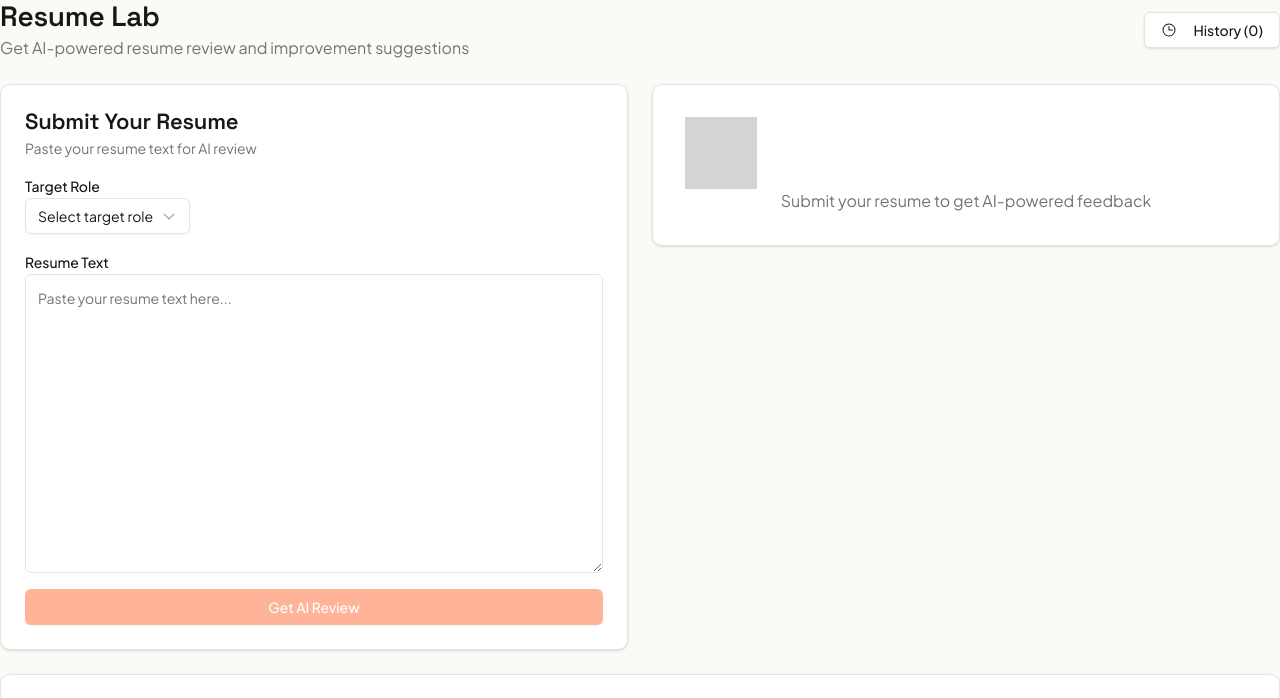
Test: ResumeLab › shows an error when the resume creation request fails
The image size is (1280, 698).
In the text box with placeholder "Paste your resume text here...": (314, 424) [25,274,603,574], type "Some resume text"
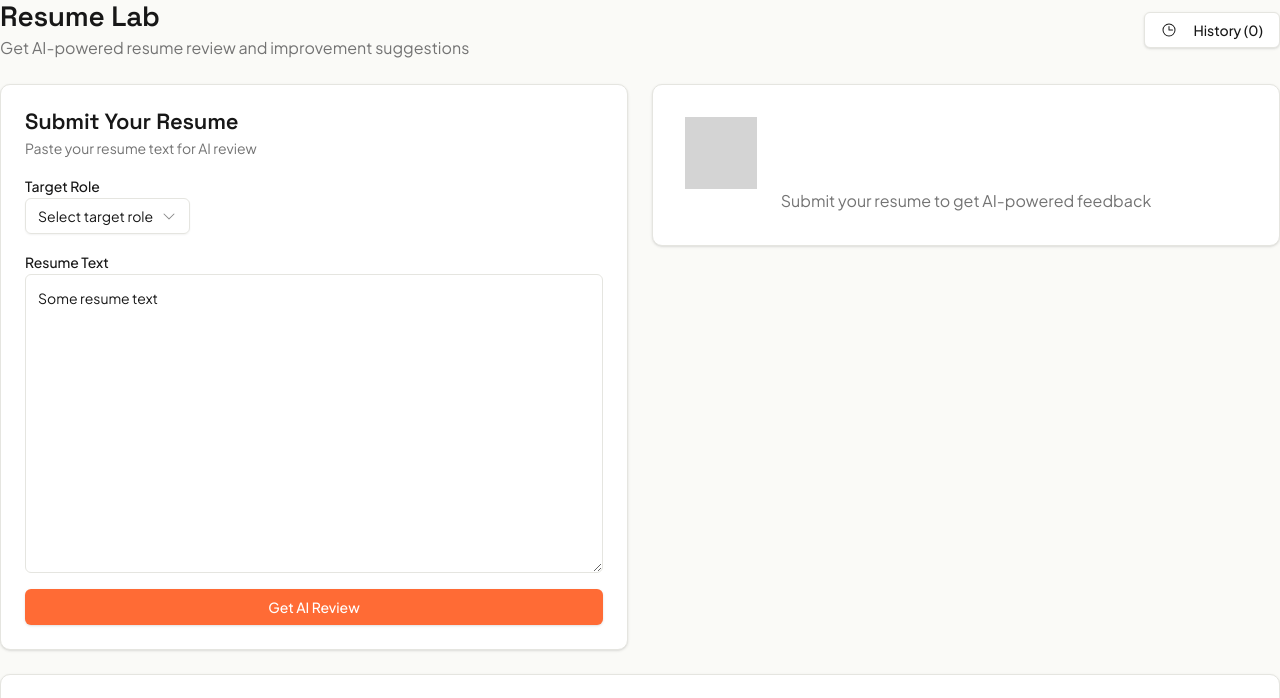
Click the button "Get AI Review": (314, 608) [25,590,603,626]
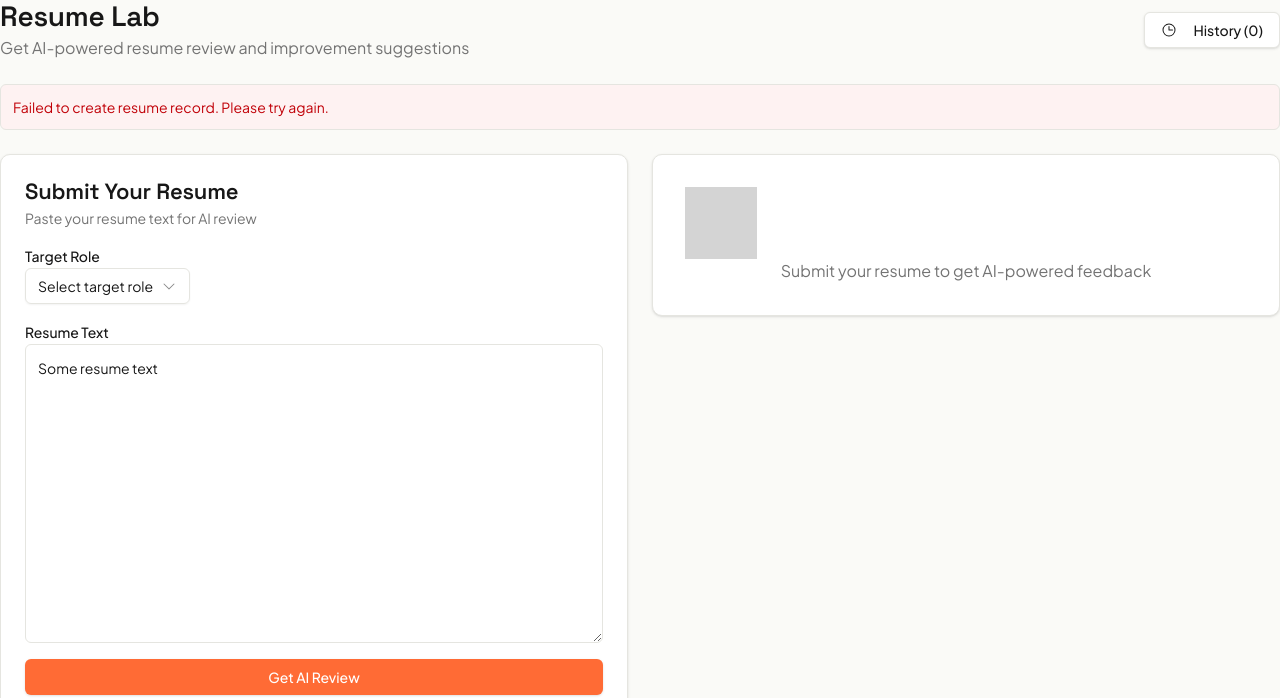
Check: the text "Failed to create resume record. Please try again." is shown, box [0,84,1279,130]
